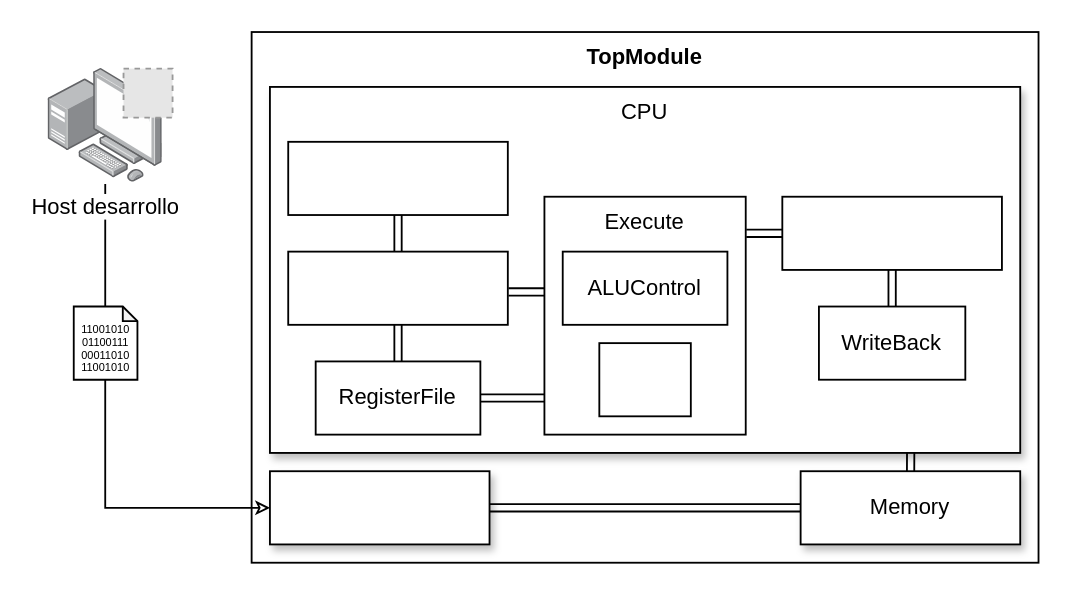
Image size: 1071x595. Some labels were removed from this diagram. Grey dashed boxes stand in for pictures. The shapes that lost their labels are listed below. From the top down, each one's centre as x and y in pixels, then its label:
At pixel 397 177: "InstructionFetch".
At pixel 891 232: "MemoryAccess".
At pixel 397 287: "InstructionDecode".
At pixel 644 378: "ALU".
At pixel 381 509: "UART".
